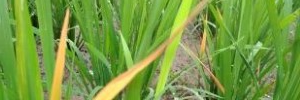RiceTungro: (93, 59, 154, 100), (52, 4, 68, 100), (196, 20, 208, 62)
